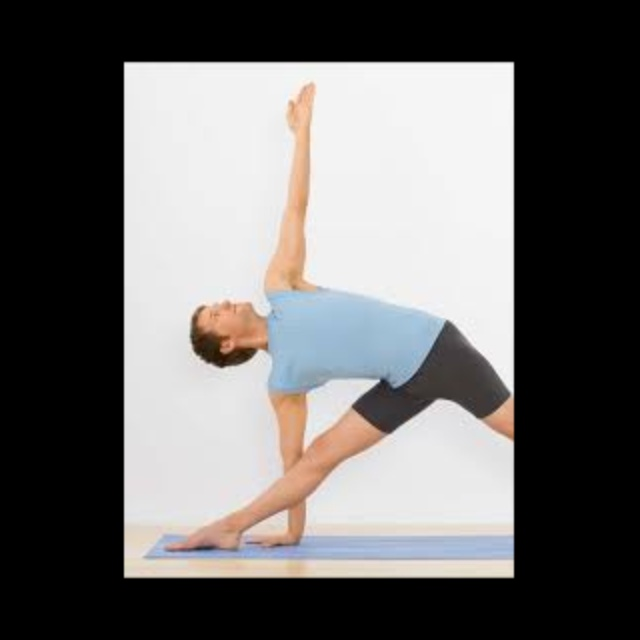Triangle_Pose: (160, 80, 512, 558)
